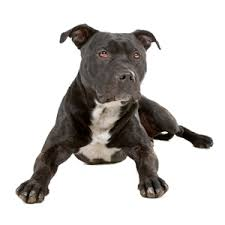Perro Pitbull: (32, 20, 216, 209)
